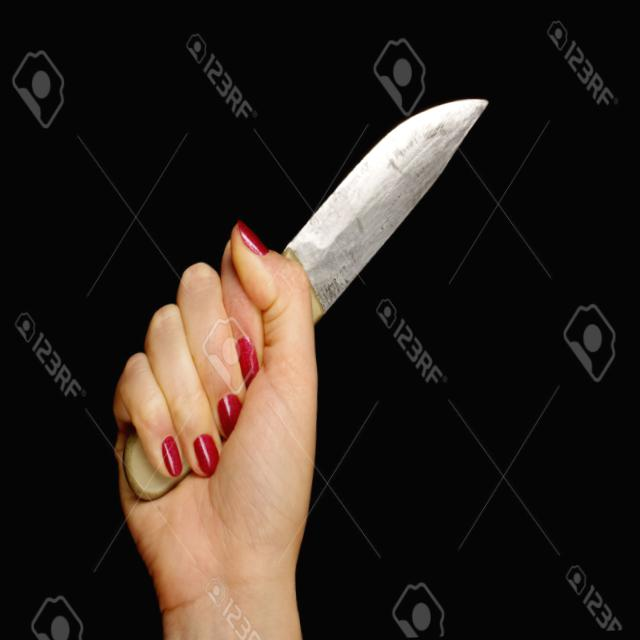knife: (106, 85, 508, 502)
